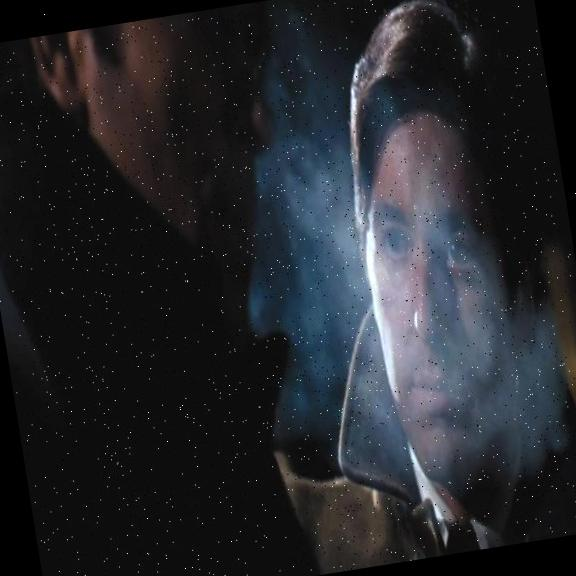smoke: (281, 115, 576, 496)
